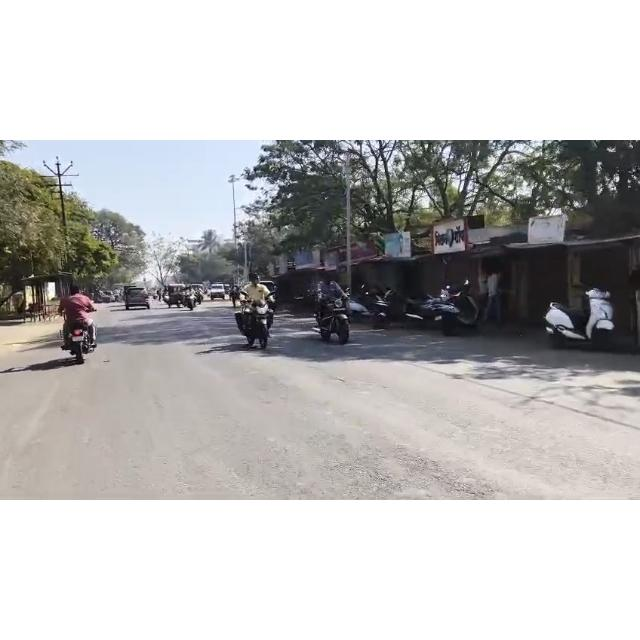auto: (164, 282, 196, 312)
car: (123, 286, 153, 310), (210, 283, 230, 301)
